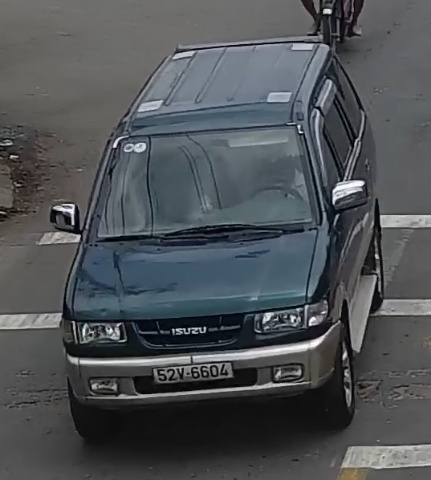vehicle plate: (150, 360, 244, 384)
